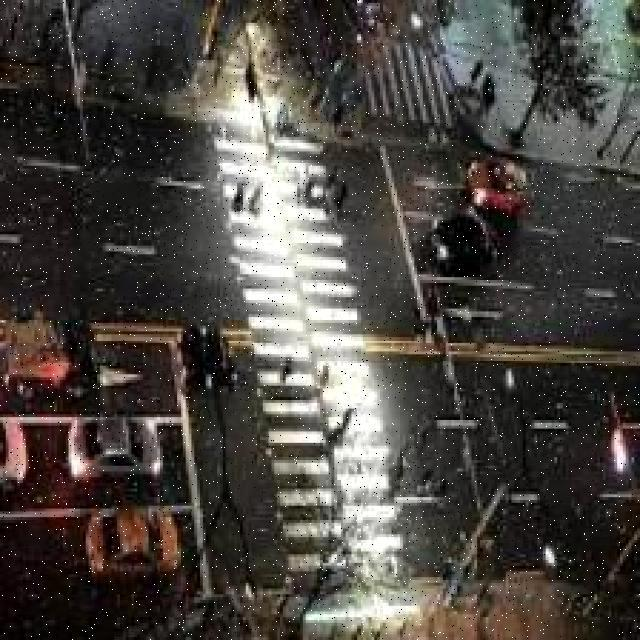crosswalk: (205, 66, 431, 584)
